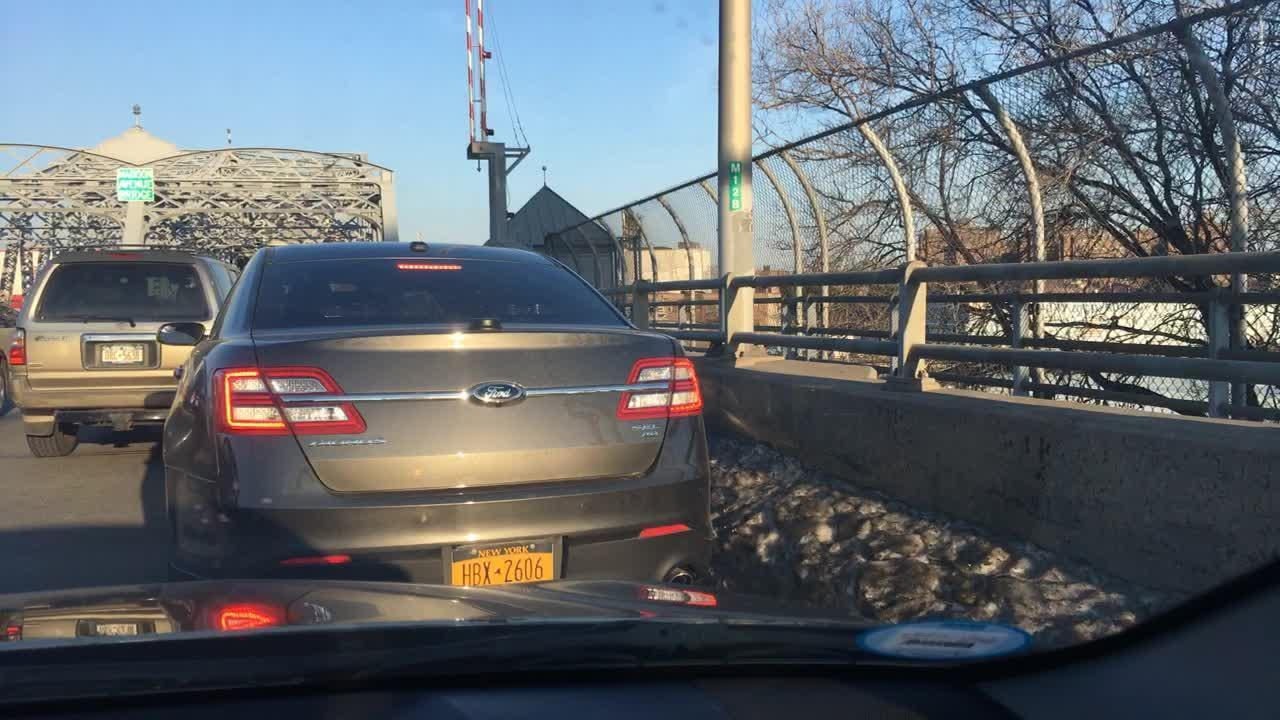ford: (465, 380, 524, 407)
